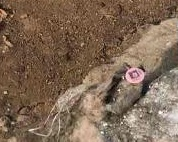text: (116, 61, 155, 92)
